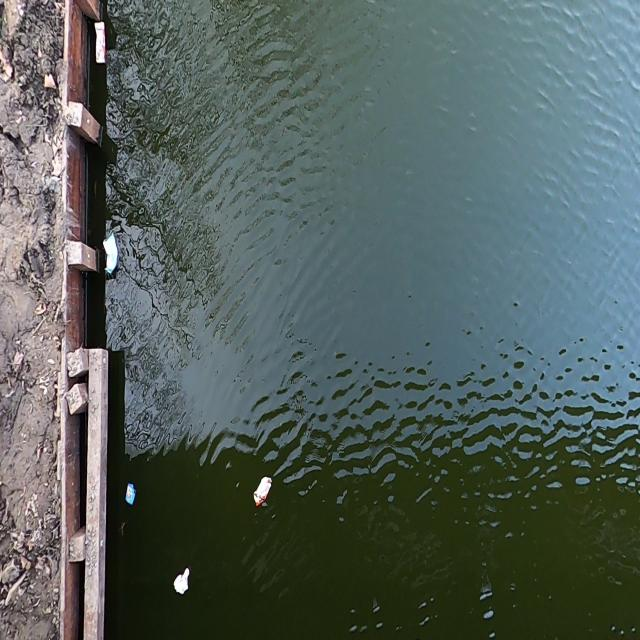Autre plastique: (101, 228, 119, 282), (91, 19, 108, 68), (251, 474, 273, 511), (123, 485, 137, 505)
